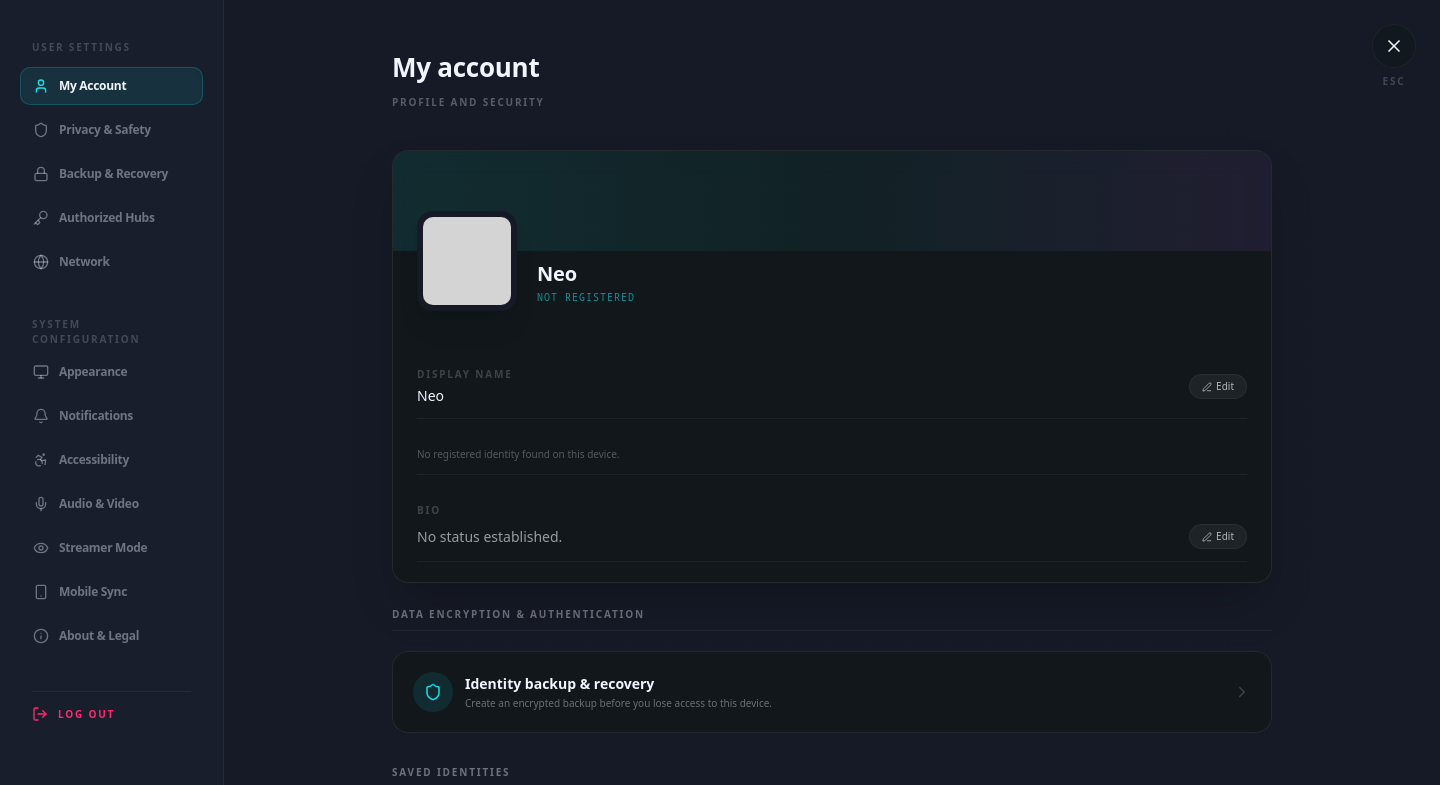
Test: SettingsScreen About & Legal › opens the avatar editor without touching window.prompt
Click the button named "change avatar image". click: (467, 261)
box: [417,211,517,311]
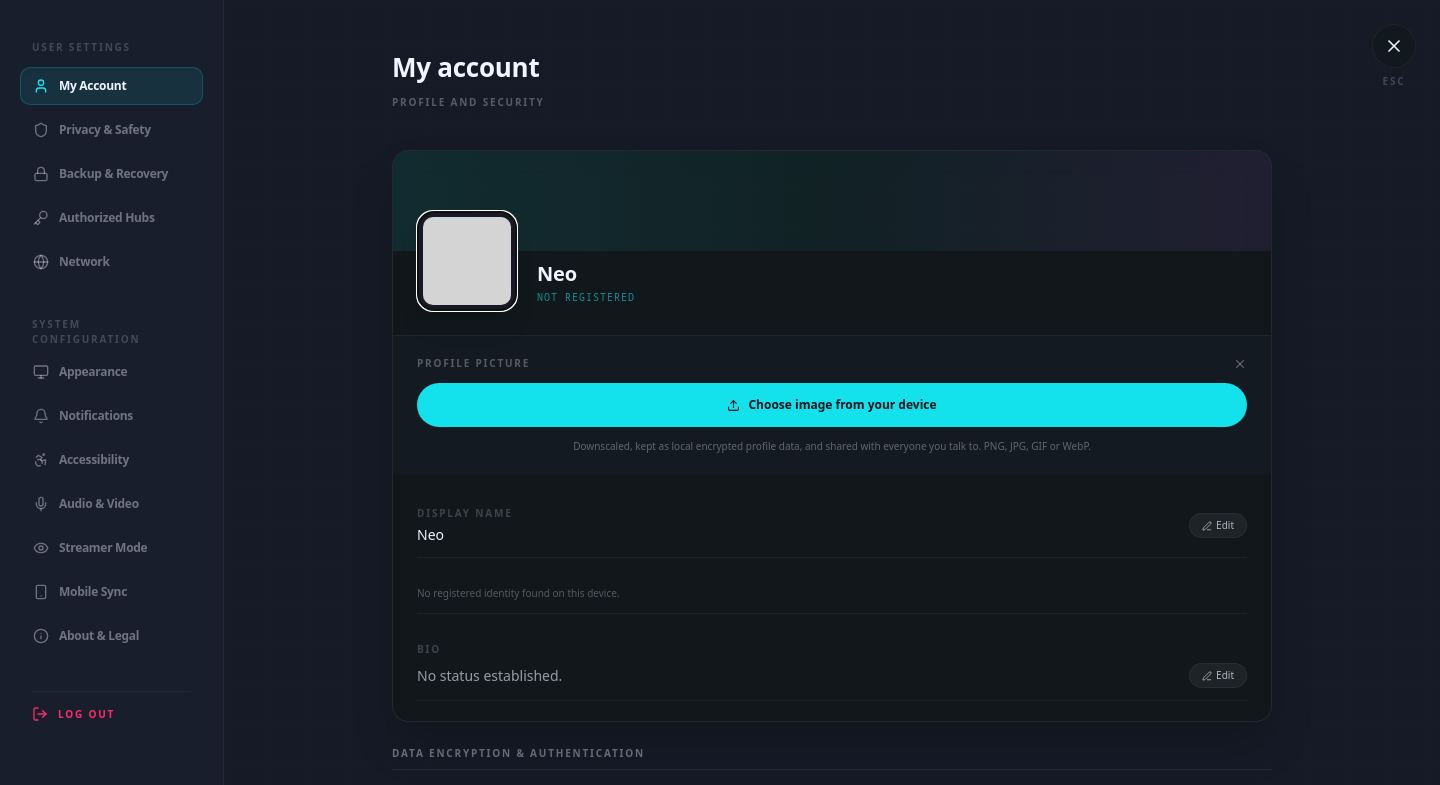
Expected: the button "Choose image from your device" is shown, [417,383,1247,427]
